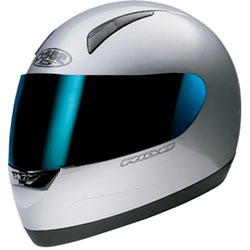helmet: (12, 7, 237, 215)
